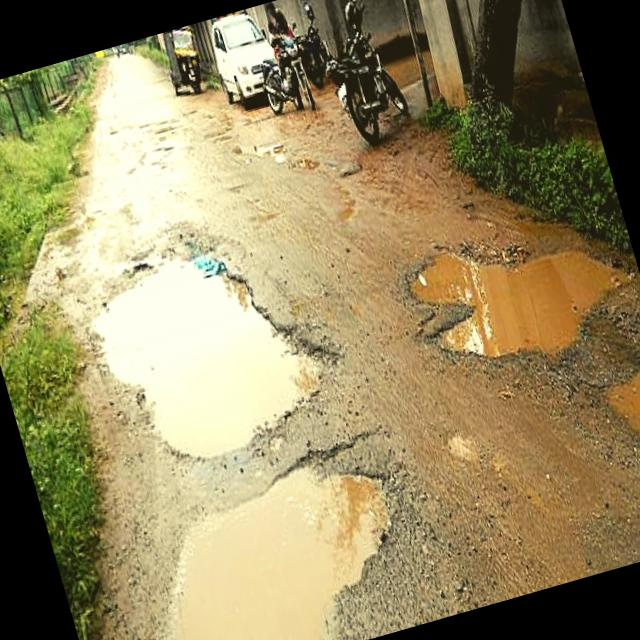Potholes: (47, 184, 380, 499), (93, 435, 445, 640), (376, 182, 640, 415), (587, 344, 640, 560)
